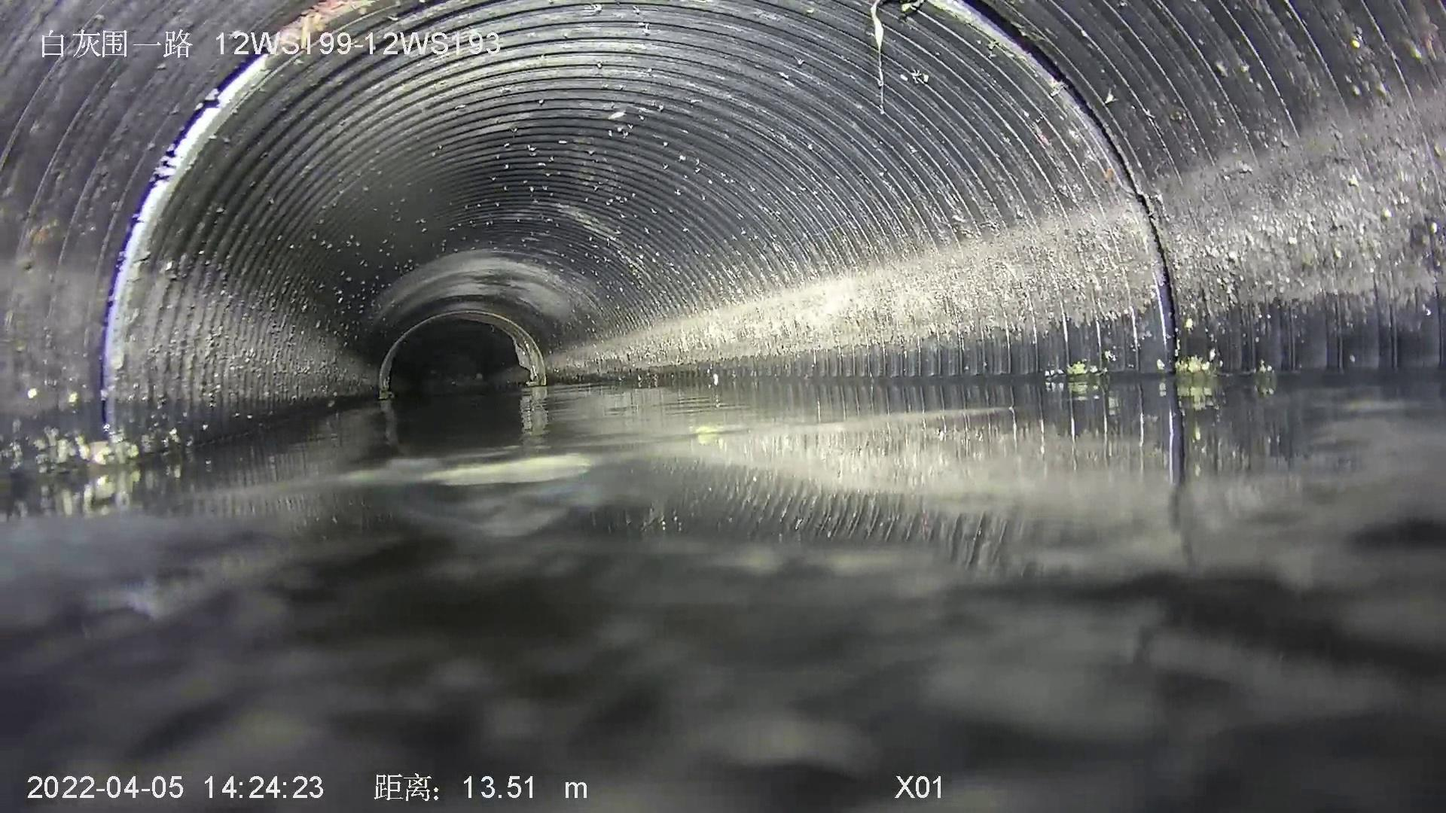CKTJ: (101, 0, 372, 422), (924, 0, 1177, 372)
